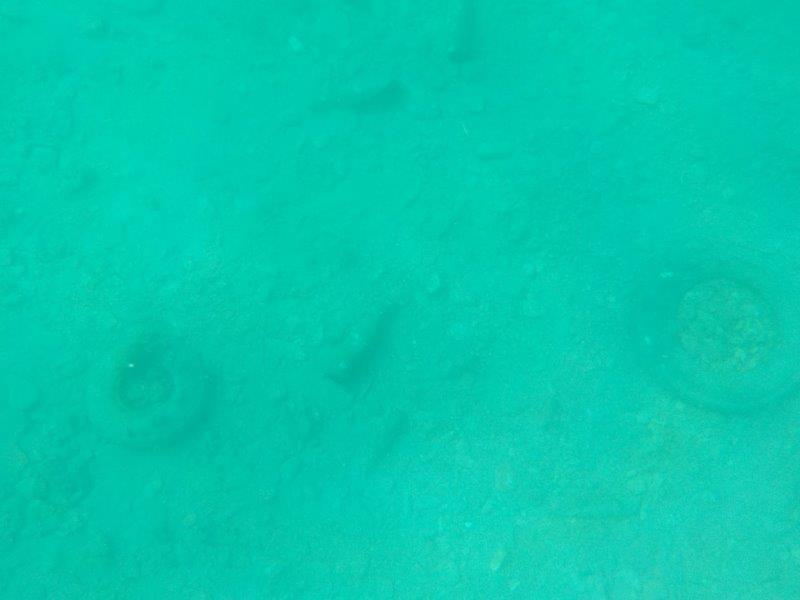bottle: (319, 292, 403, 390)
tire: (621, 226, 800, 421), (79, 316, 216, 453)
